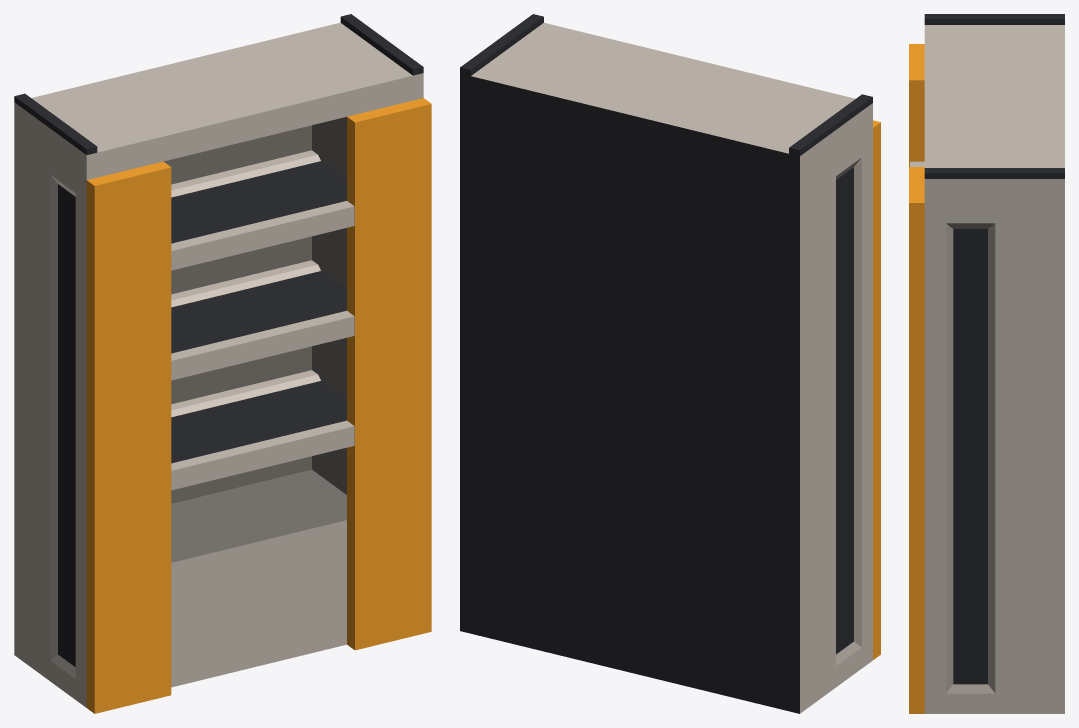
Rendered from SM_Cupboard_For_Utensils.glb.
The picture shows the model from 3 angles, left to right: view 1: azimuth 30°, elevation 25°; view 2: azimuth 150°, elevation 25°; view 3: azimuth 270°, elevation 25°; orthographic projection. The views are drawn at different scales.
Visible parts, largest first — view 1: SM_Cupboard_For_Utensils; view 2: SM_Cupboard_For_Utensils; view 3: SM_Cupboard_For_Utensils.
Part boxes in pixels (left/top/right/bottom): SM_Cupboard_For_Utensils: left=14, top=14, right=431, bottom=713; SM_Cupboard_For_Utensils: left=460, top=14, right=880, bottom=713; SM_Cupboard_For_Utensils: left=909, top=14, right=1064, bottom=713.
Bounding box in the file's own units: 1.45 × 2.3 × 0.6.
1 material, 1 textured.
